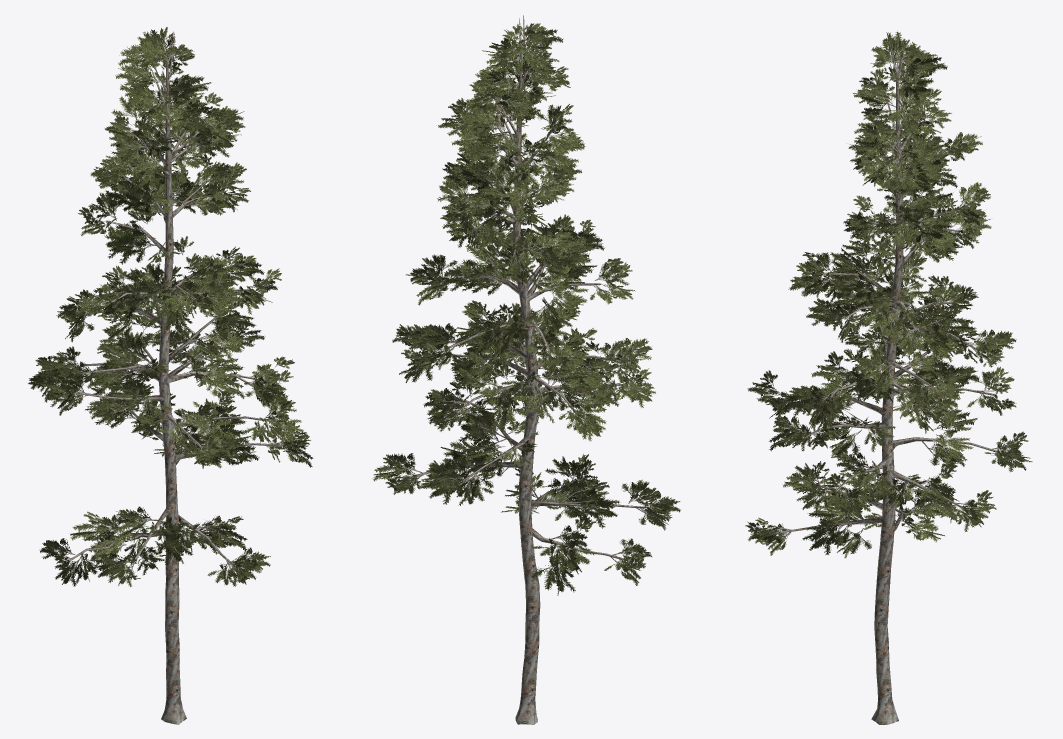
File: Conifer_Low.fbx
The picture shows the model from 3 angles, left to right: view 1: azimuth 30°, elevation 25°; view 2: azimuth 150°, elevation 25°; view 3: azimuth 270°, elevation 25°; orthographic projection. The views are drawn at different scales.
Visible parts, largest first — view 1: Conifer_Low; view 2: Conifer_Low; view 3: Conifer_Low.
Part boxes in pixels (bbox=[...]): Conifer_Low: bbox=[28, 27, 313, 724]; Conifer_Low: bbox=[372, 15, 680, 724]; Conifer_Low: bbox=[745, 31, 1032, 724].
Bounding box in the file's own units: 24.01 × 25.9 × 61.06.
Materials: 3 (3 with a texture image).
